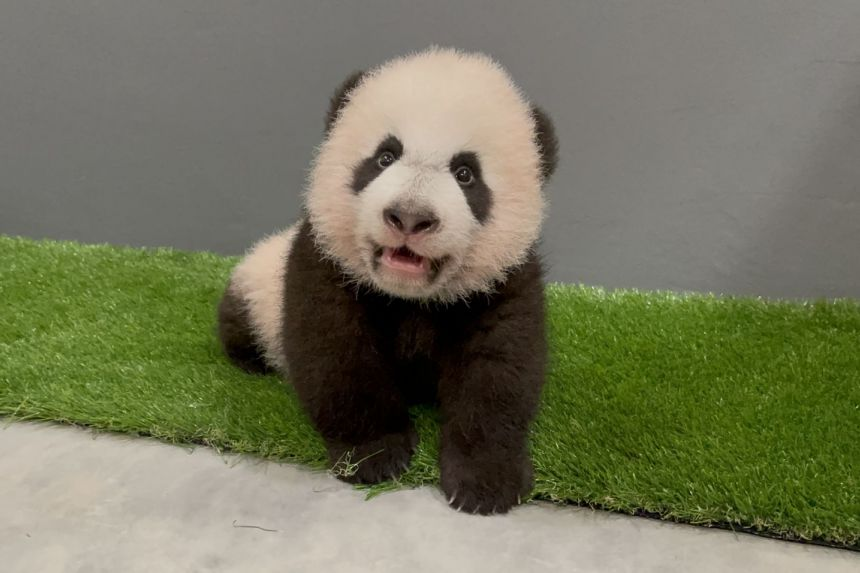panda: (169, 55, 629, 503)
